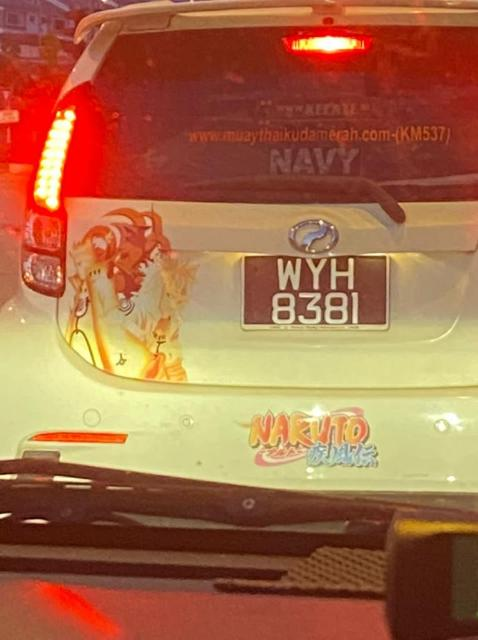License_Plate: (256, 257, 379, 330)
car: (1, 1, 478, 525)
